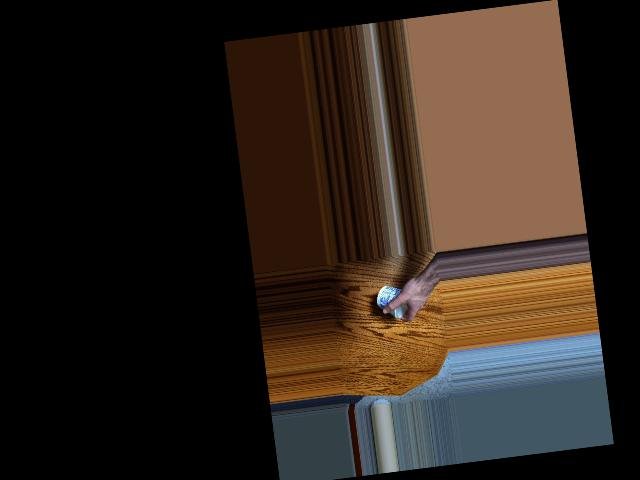cotage: (373, 280, 411, 321)
